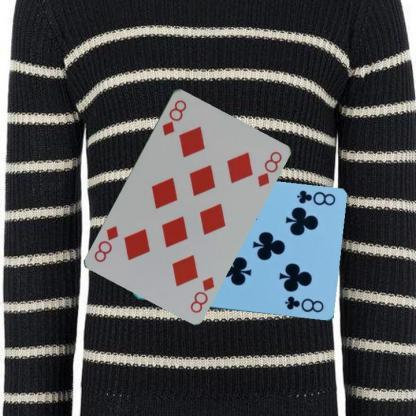8c: (293, 188, 337, 207)
8d: (159, 96, 188, 136), (187, 274, 216, 314)
